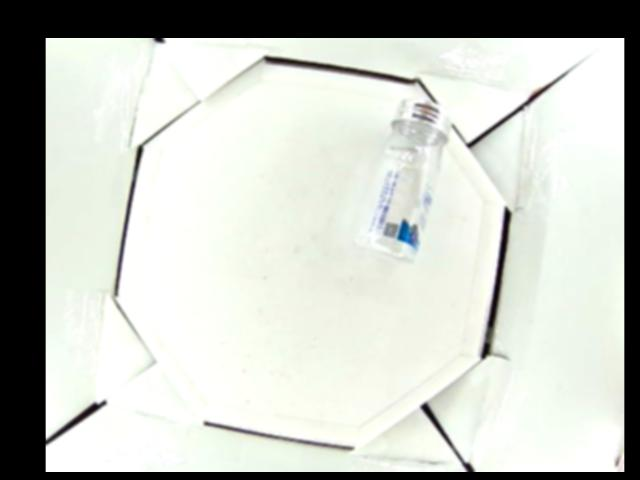Bottle: (355, 99, 449, 261)
